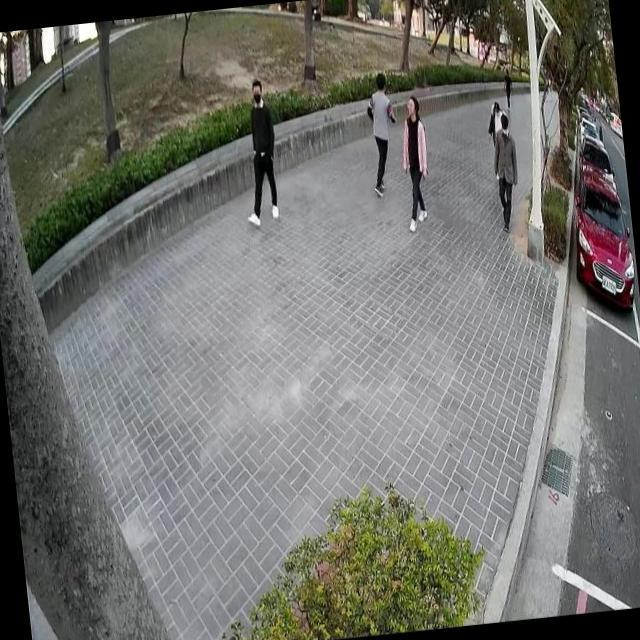person: (230, 73, 285, 230), (359, 64, 406, 204), (392, 90, 436, 236), (484, 111, 524, 234), (482, 93, 510, 146), (498, 62, 517, 112)
